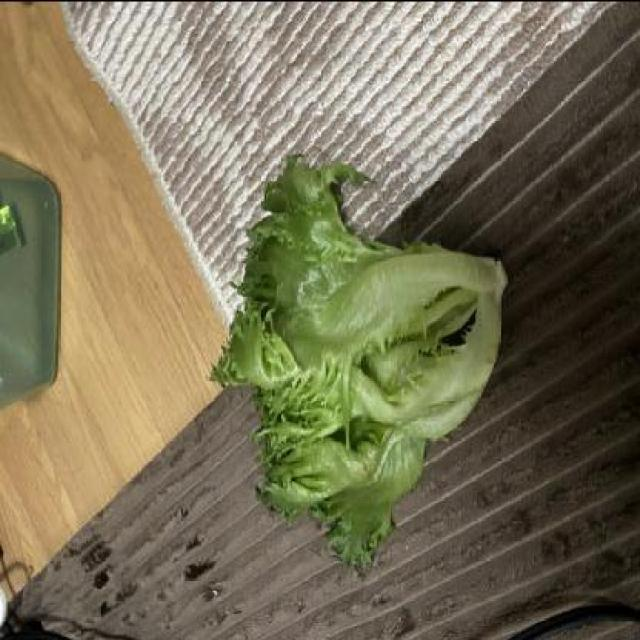Lettuce: (217, 145, 511, 581)
